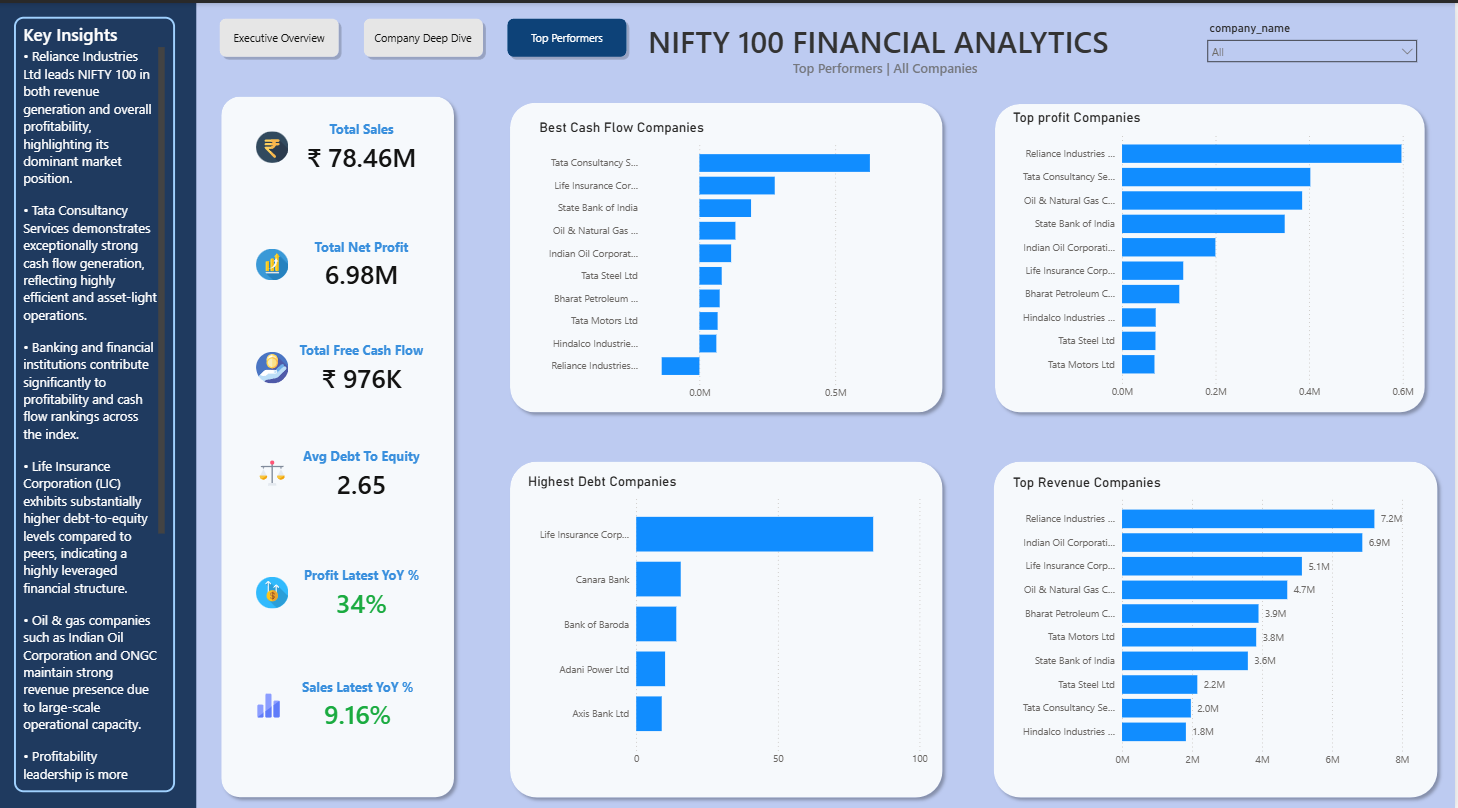

The dashboard page shown, as its layout file describes it:
{"tool":"powerbi","page":{"name":"Top Performers","canvas":[1800,1000],"ordinal":2},"visuals":[{"type":"group","id":"g1","title":"Group 1","box":[623.7,114,1164.5,877.7],"z":0},{"type":"shape","box":[623.7,558,552.9,433.7],"z":0,"group":"g1"},{"type":"textbox","box":[0,0,243.6,1000.4],"z":1000},{"type":"shape","box":[623.7,114,552.9,400.8],"z":1000,"group":"g1"},{"type":"shape","box":[1221.5,558,566.7,433.7],"z":2000,"group":"g1"},{"type":"barChart","title":"Top Revenue Companies","fields":{"Y":["KPI_measures.total_sales"],"Category":["dim_company.company_name"]},"box":[1249.1,582.2,506.2,371.5],"z":2000},{"type":"shape","box":[1223.7,115.7,549.4,399.1],"z":3000,"group":"g1"},{"type":"barChart","title":"Top profit Companies","fields":{"Category":["dim_company.company_name"],"Y":["KPI_measures.total_net_profit"]},"box":[1249.1,131.3,506.2,368],"z":3000},{"type":"barChart","title":"Highest Debt Companies","fields":{"Category":["dim_company.company_name"],"Y":["KPI_measures.avg_debt_to_equity"]},"box":[649.9,581.9,504.4,372.2],"z":4000},{"type":"barChart","title":"Best Cash Flow Companies","fields":{"Category":["dim_company.company_name"],"Y":["KPI_measures.total_free_cash_flow"]},"box":[663.1,143.6,491.2,357.1],"z":5000},{"type":"pageNavigator","box":[267.8,13.8,516.6,58.7],"z":6000},{"type":"textbox","title":"  Key Insights","box":[18.7,17,199.4,959.4],"z":7000},{"type":"shape","box":[266.1,107.1,305.8,884.6],"z":8000},{"type":"cardVisual","title":"Total Sales","fields":{"Data":["KPI_measures.total_sales"]},"box":[289.7,131.2,267.6,93.7],"z":9000},{"type":"cardVisual","fields":{"Data":["KPI_measures.total_net_profit"]},"box":[289.7,276.1,267.6,93.7],"z":10000},{"type":"cardVisual","fields":{"Data":["KPI_measures.total_free_cash_flow"]},"box":[289.7,403.9,267.6,95.4],"z":11000},{"type":"cardVisual","fields":{"Data":["KPI_measures.avg_debt_to_equity"]},"box":[289.7,519.8,267.6,124.4],"z":12000},{"type":"cardVisual","fields":{"Data":["KPI_measures.Profit YoY %"]},"box":[289.7,683.4,267.6,92],"z":13000},{"type":"cardVisual","fields":{"Data":["KPI_measures.Sales YoY %"]},"box":[284.6,811.2,267.6,110.8],"z":14000},{"type":"cardVisual","fields":{"Data":["KPI_measures.subtitle2"]},"box":[770.3,30.7,652.7,95.4],"z":14001},{"type":"textbox","box":[797.6,17,594.8,90.3],"z":14002},{"type":"slicer","fields":{"Values":["dim_company.company_name"]},"box":[1485,17.6,279.8,60.7],"z":14003}]}

Visuals, with their boxes in screenshot pixels (x1, y1, x2, y2), scaled from the page's 1800x1000 canvas onto the 1458x808 screenshot:
"Group 1" group: 505/92/1448/801
shape: 505/451/953/801
textbox: 0/0/197/807
shape: 505/92/953/416
shape: 989/451/1448/801
"Top Revenue Companies" barChart: 1012/470/1422/771
shape: 991/93/1436/416
"Top profit Companies" barChart: 1012/106/1422/403
"Highest Debt Companies" barChart: 526/470/935/771
"Best Cash Flow Companies" barChart: 537/116/935/405
pageNavigator: 217/11/635/59
"  Key Insights" textbox: 15/14/177/789
shape: 216/87/463/801
"Total Sales" cardVisual: 235/106/451/182
cardVisual - KPI_measures.total_net_profit: 235/223/451/299
cardVisual - KPI_measures.total_free_cash_flow: 235/326/451/403
cardVisual - KPI_measures.avg_debt_to_equity: 235/420/451/521
cardVisual - KPI_measures.Profit YoY %: 235/552/451/627
cardVisual - KPI_measures.Sales YoY %: 231/655/447/745
cardVisual - KPI_measures.subtitle2: 624/25/1153/102
textbox: 646/14/1128/87
slicer - dim_company.company_name: 1203/14/1429/63
